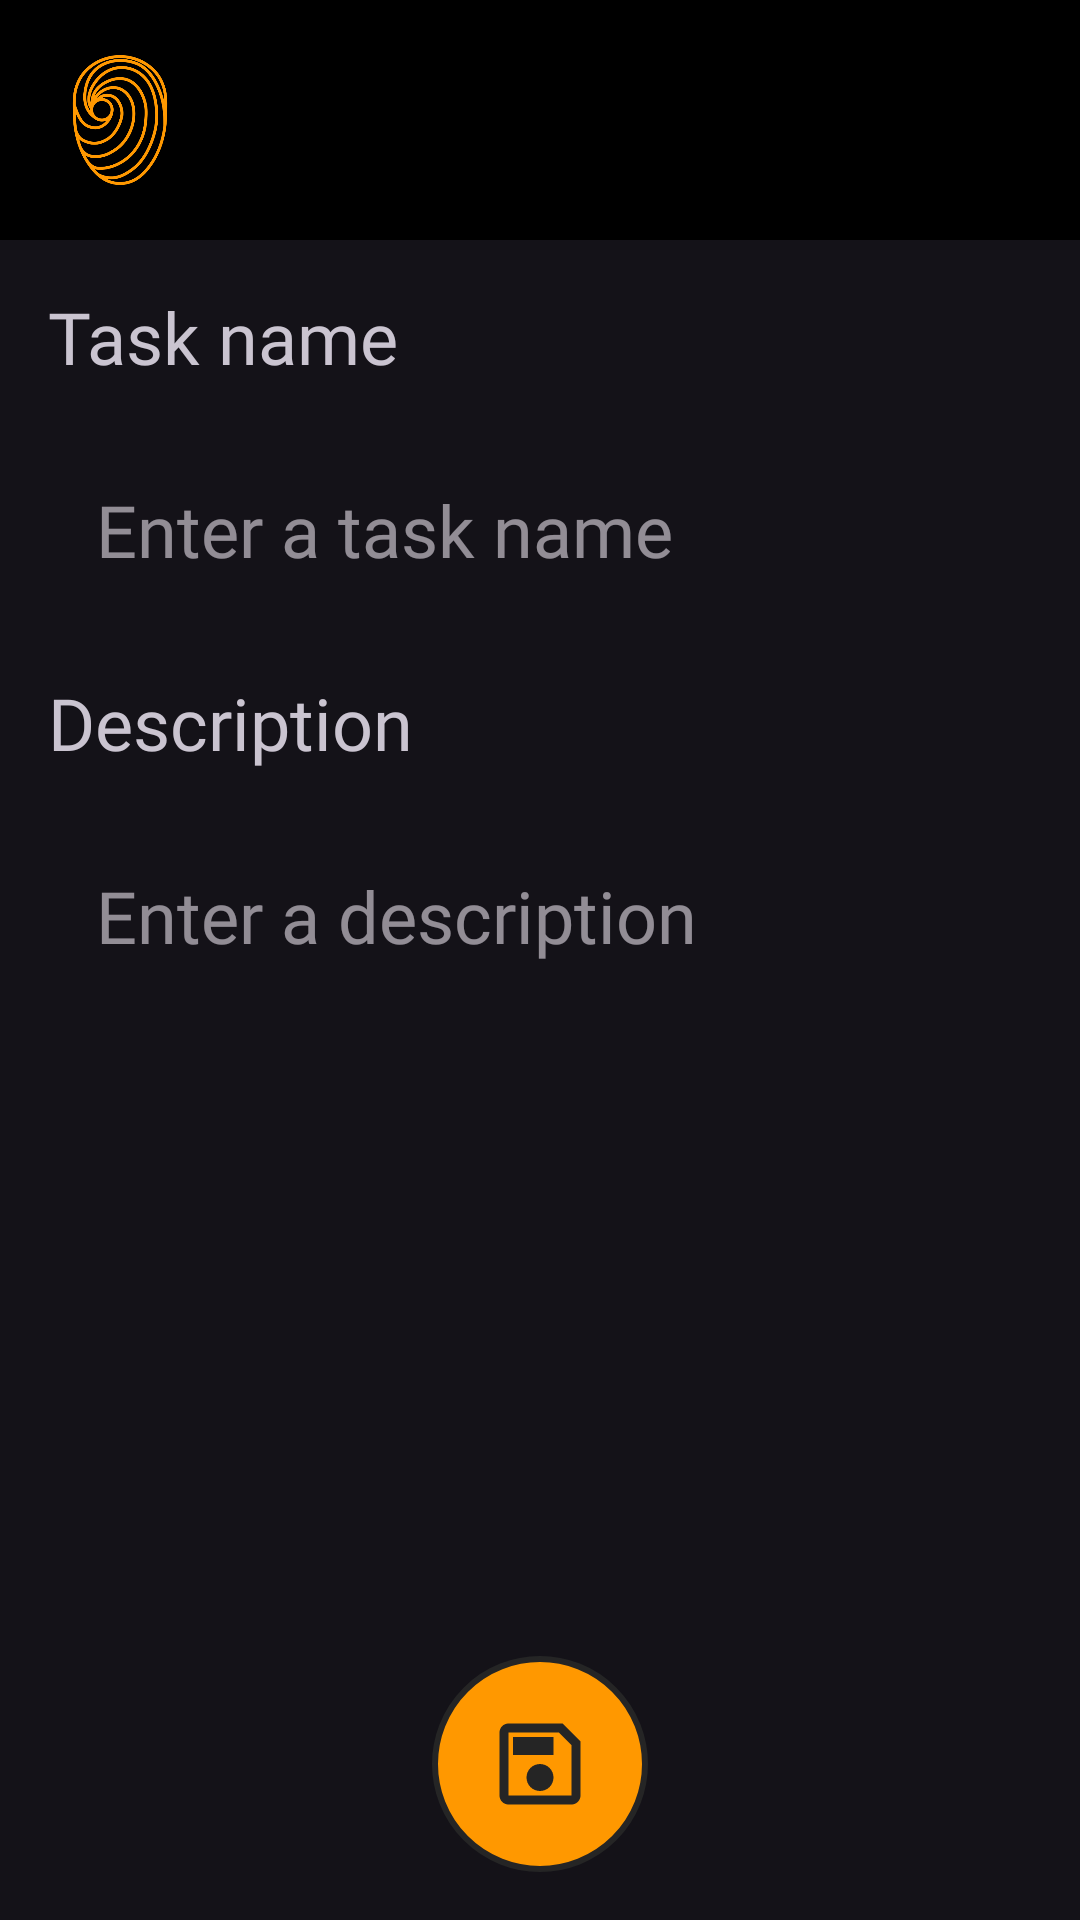

Icon click points for this 1080 × 1920 phone screenshot, format (x,y):
save: (540,1764)
